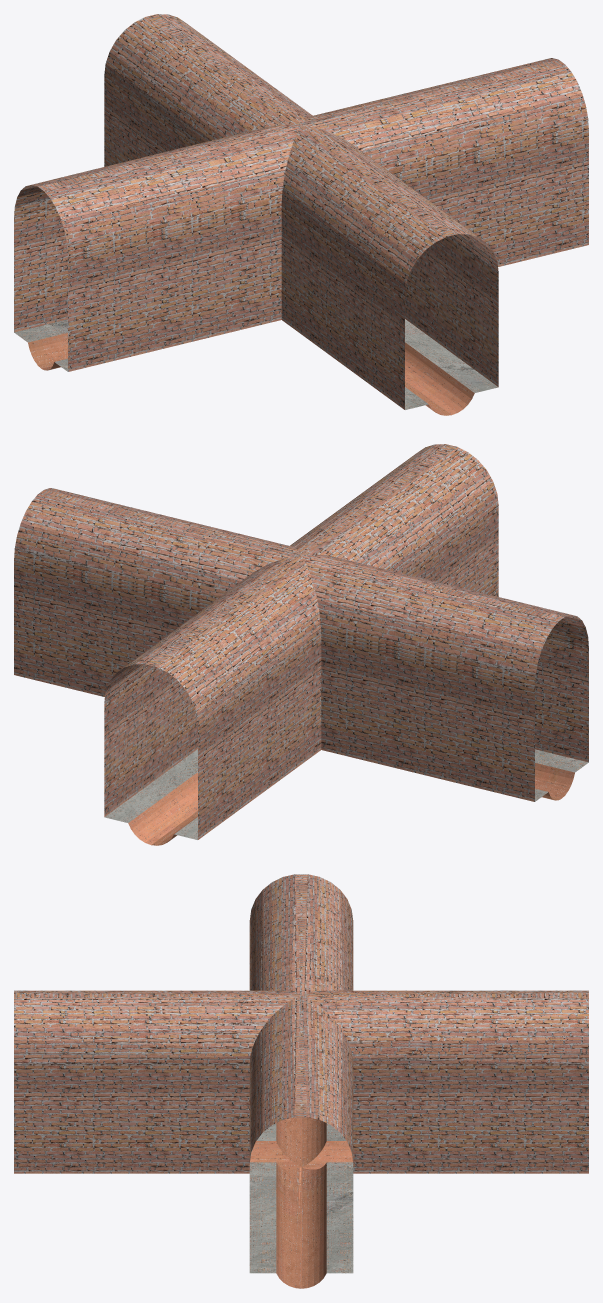
3 views of the same model, one above another, from view 1: azimuth 30°, elevation 25°; view 2: azimuth 150°, elevation 25°; view 3: azimuth 270°, elevation 25° (orthographic). The views are drawn at different scales.
Visible parts, largest first — view 1: SketchUp (×4); view 2: SketchUp (×4); view 3: SketchUp (×4).
Part boxes in pixels (<box>): SketchUp (×4): <box>14,14,588,415</box>; SketchUp (×4): <box>14,444,588,845</box>; SketchUp (×4): <box>14,874,588,1288</box>.
Size of the model in its own units: 197 by 197 by 64.96.
